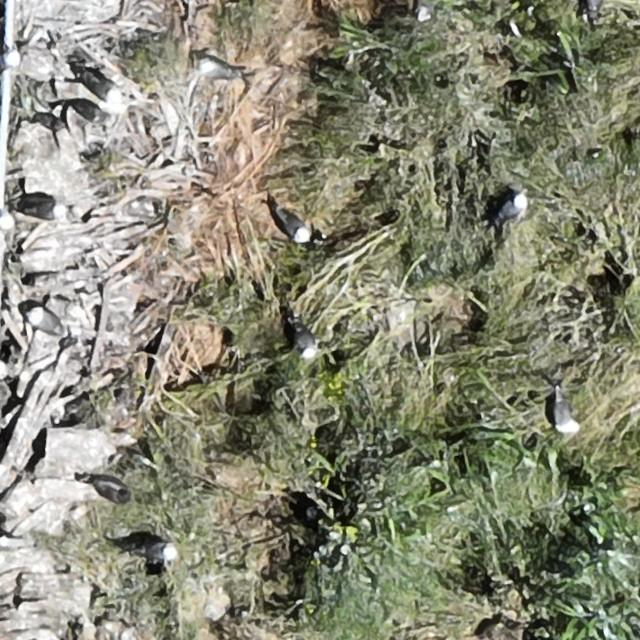umineko: (78, 62, 126, 104), (554, 389, 583, 432), (196, 56, 242, 82), (280, 212, 311, 242), (18, 200, 68, 218), (294, 324, 317, 358), (499, 194, 526, 221), (34, 310, 62, 332), (142, 542, 174, 561), (72, 101, 100, 120), (587, 0, 603, 15)
